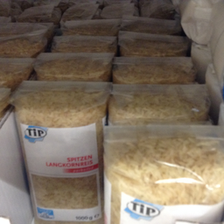rice: (10, 80, 112, 224), (103, 121, 224, 222)
